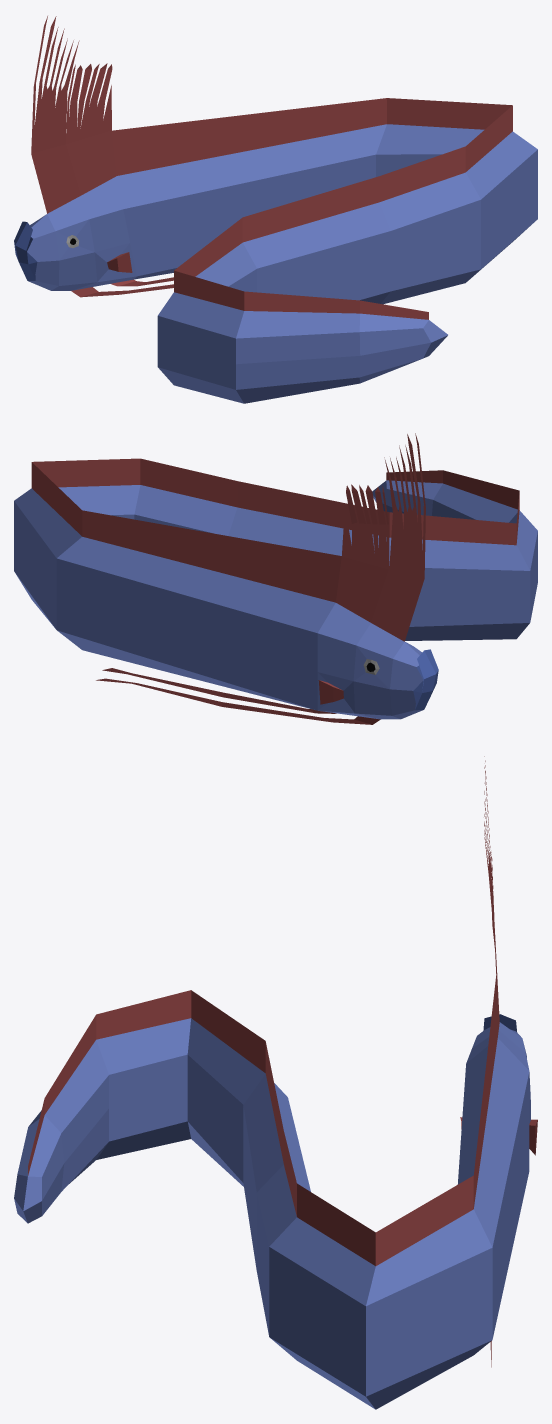
The model's file is OarfishRaw.glb.
3 renders of one model, top to bottom at view 1: azimuth 30°, elevation 25°; view 2: azimuth 150°, elevation 25°; view 3: azimuth 270°, elevation 25°, orthographic. The views are drawn at different scales.
Visible parts, largest first — view 1: EXPORT_oarfish; view 2: EXPORT_oarfish; view 3: EXPORT_oarfish.
Boxes of the visible parts, left/top/right/bottom form: EXPORT_oarfish: left=14, top=16, right=537, bottom=403; EXPORT_oarfish: left=14, top=433, right=537, bottom=724; EXPORT_oarfish: left=14, top=756, right=537, bottom=1409.
Bounding box in the file's own units: 0.9632 × 0.628 × 0.7159.
